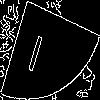I: (25, 25, 48, 74)
